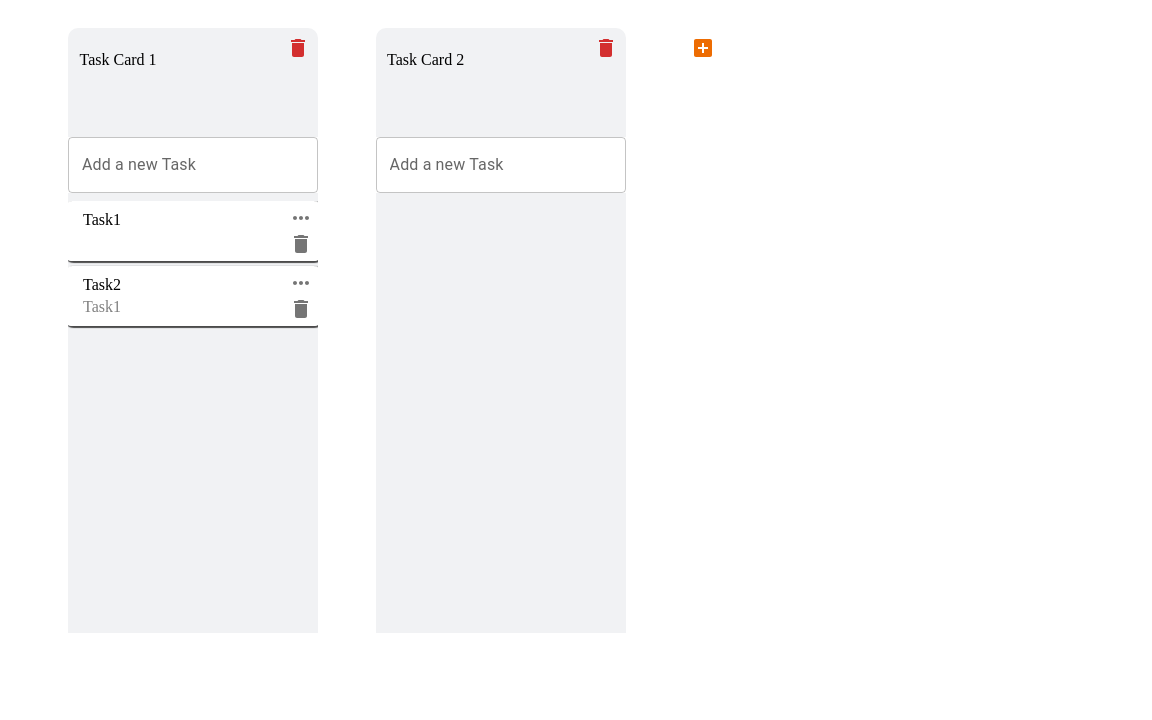
Test: Body › delete task
Click the 3rd button named "delete" at [301, 244], box [284,227,318,261]
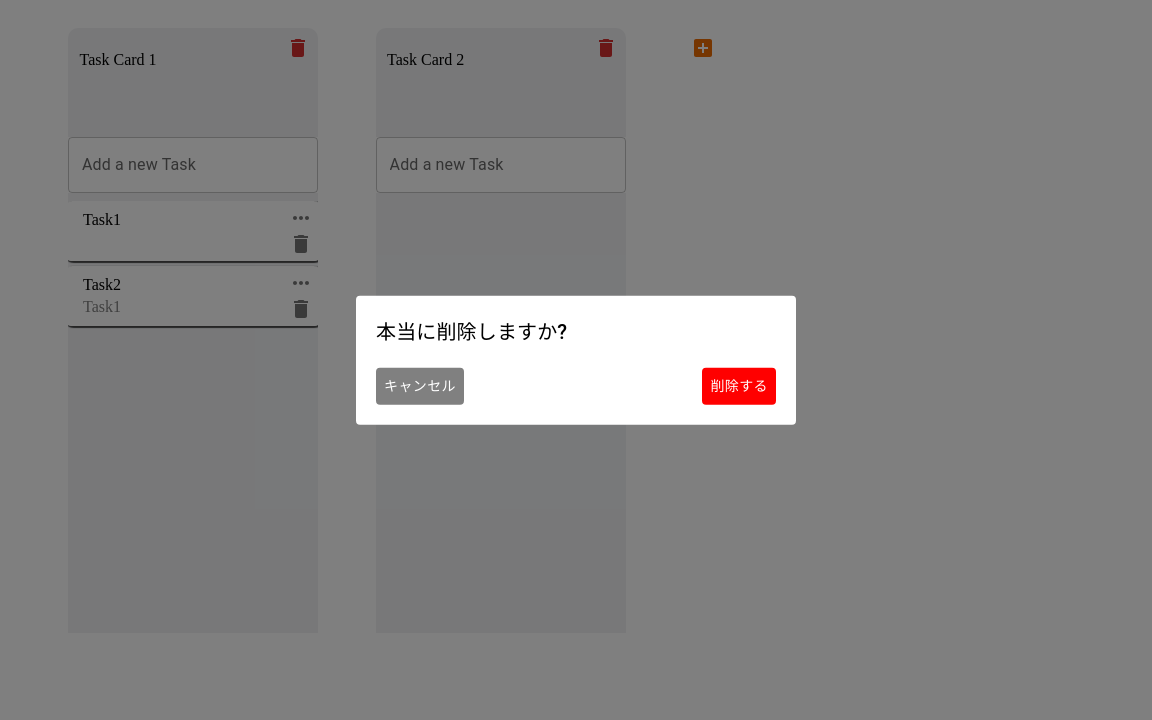
Note: Modalの削除するボタンをクリック
Click the button "削除する" at [739, 386], box [702,368,776,404]
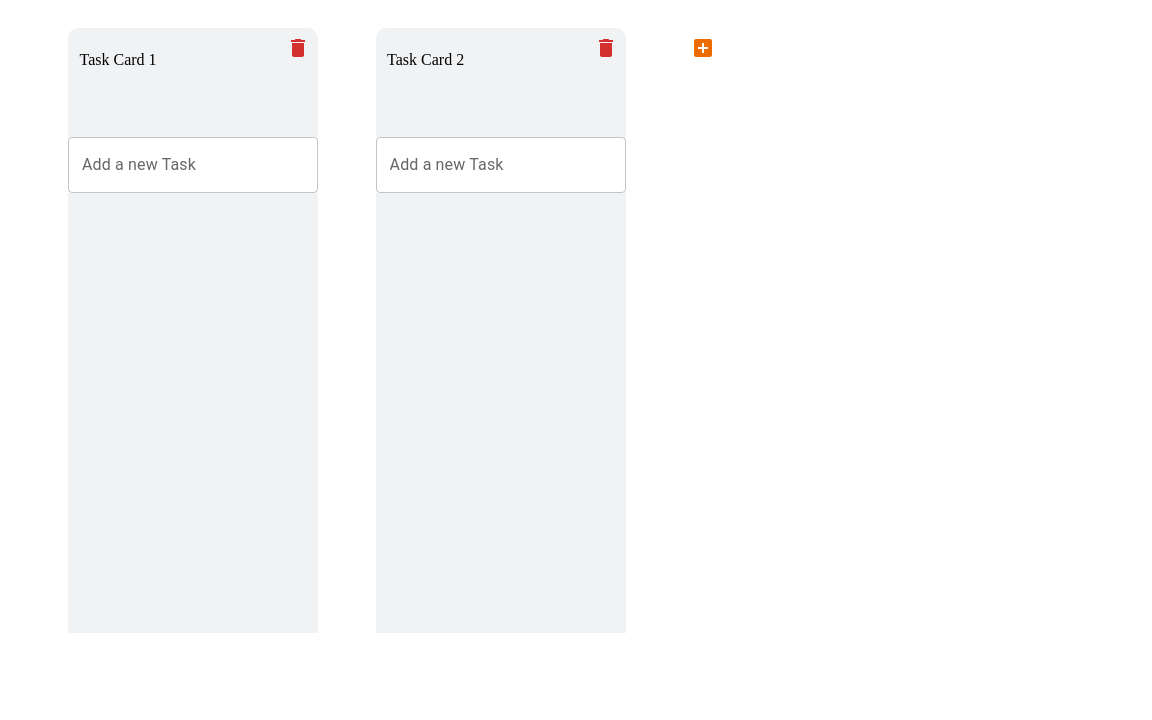
Expected: the text "Task Card 1" is shown, [80,51,157,69]
Result: the button "Task1" is gone
Result: the button "Task2" is gone
